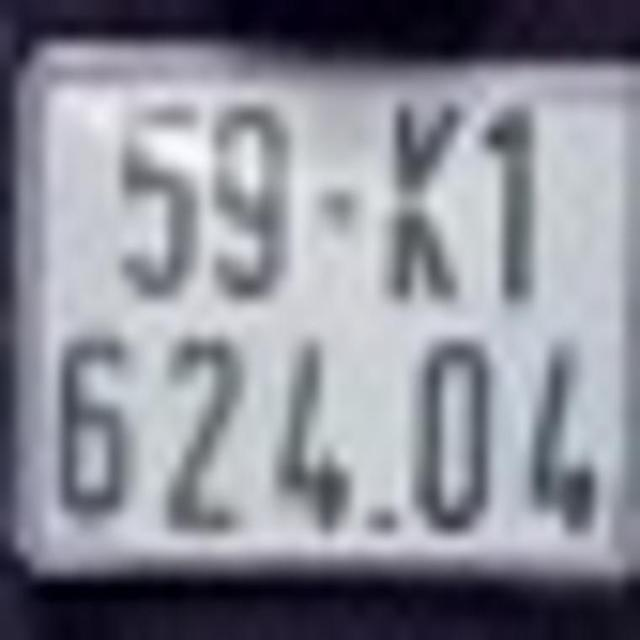0: (415, 331, 494, 535)
1: (481, 97, 541, 305)
2: (162, 331, 246, 535)
4: (528, 335, 604, 542), (276, 333, 352, 536)
5: (116, 98, 202, 300)
6: (55, 329, 134, 521)
9: (210, 99, 290, 302)
K: (388, 94, 463, 308)
